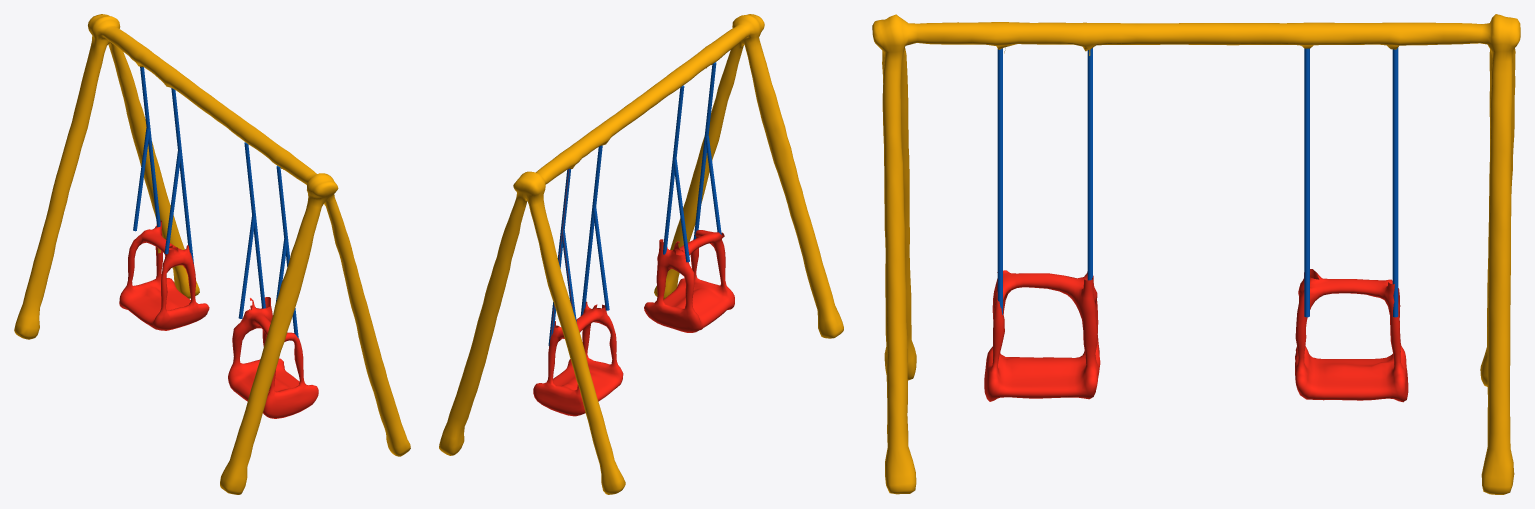
File: columpios_CGIHC.fbx
The picture shows the model from 3 angles, left to right: view 1: azimuth 30°, elevation 25°; view 2: azimuth 150°, elevation 25°; view 3: azimuth 270°, elevation 25°; orthographic projection. The views are drawn at different scales.
Visible parts, largest first — view 1: mesh.005; view 2: mesh.005; view 3: mesh.005.
Boxes of the visible parts, bbox=[...] form: mesh.005: bbox=[14, 14, 410, 494]; mesh.005: bbox=[439, 14, 843, 494]; mesh.005: bbox=[872, 14, 1520, 494].
Bounding box in the file's own units: 333 × 516 × 714.
